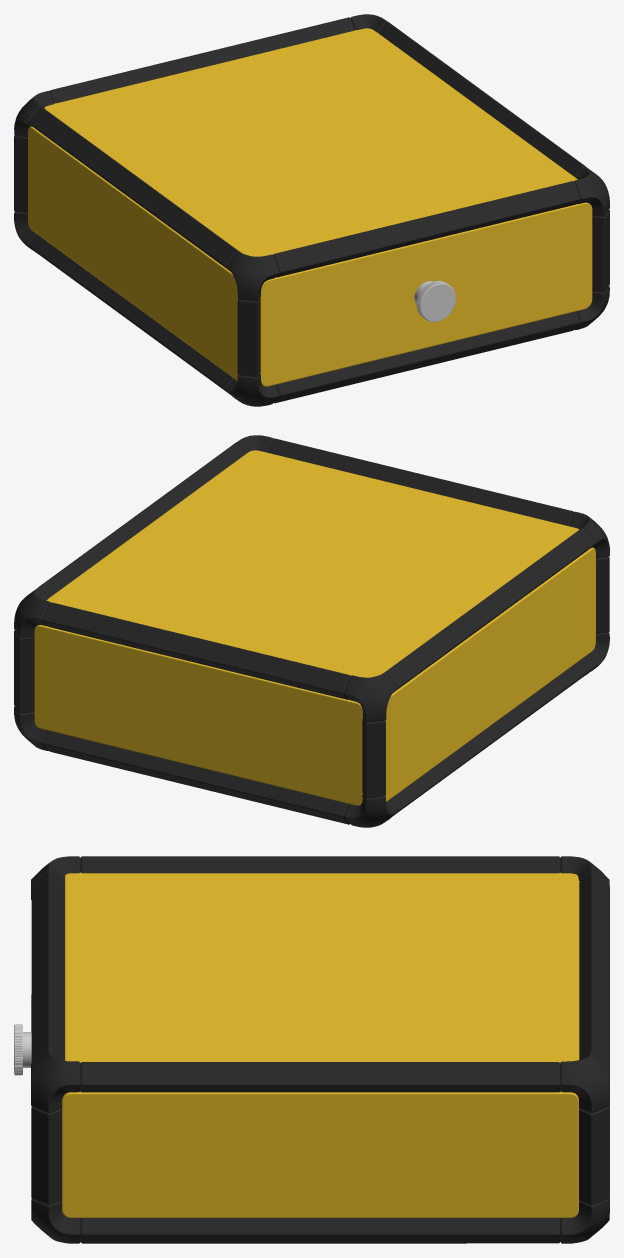
The picture shows the model from 3 angles, top to bottom: view 1: azimuth 30°, elevation 25°; view 2: azimuth 150°, elevation 25°; view 3: azimuth 270°, elevation 25°; orthographic projection. The views are drawn at different scales.
Parts seen in each view (by area): view 1: 329x374x79; view 2: 329x374x79; view 3: 329x374x79.
Part boxes in pixels (box(x1,y1,x2,y2)): 329x374x79: box(14, 14, 609, 406); 329x374x79: box(14, 435, 609, 827); 329x374x79: box(14, 856, 609, 1243).
Size of the model in its own units: 0.4068 by 0.1568 by 0.4646.
